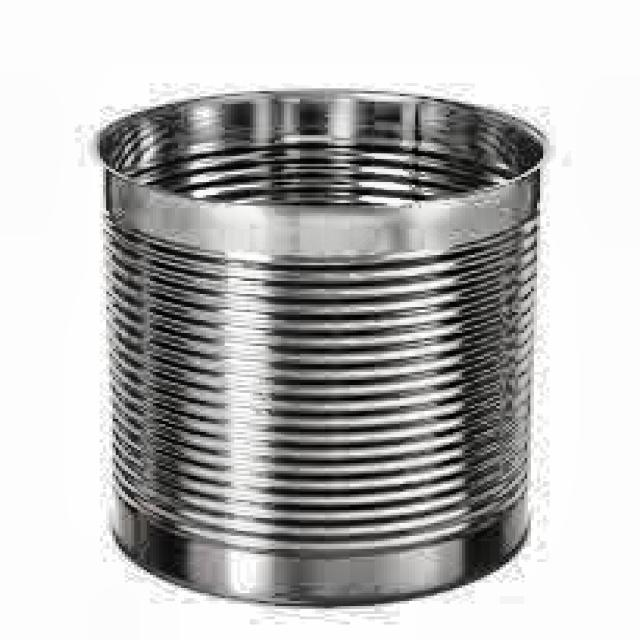can: (83, 76, 545, 613)
